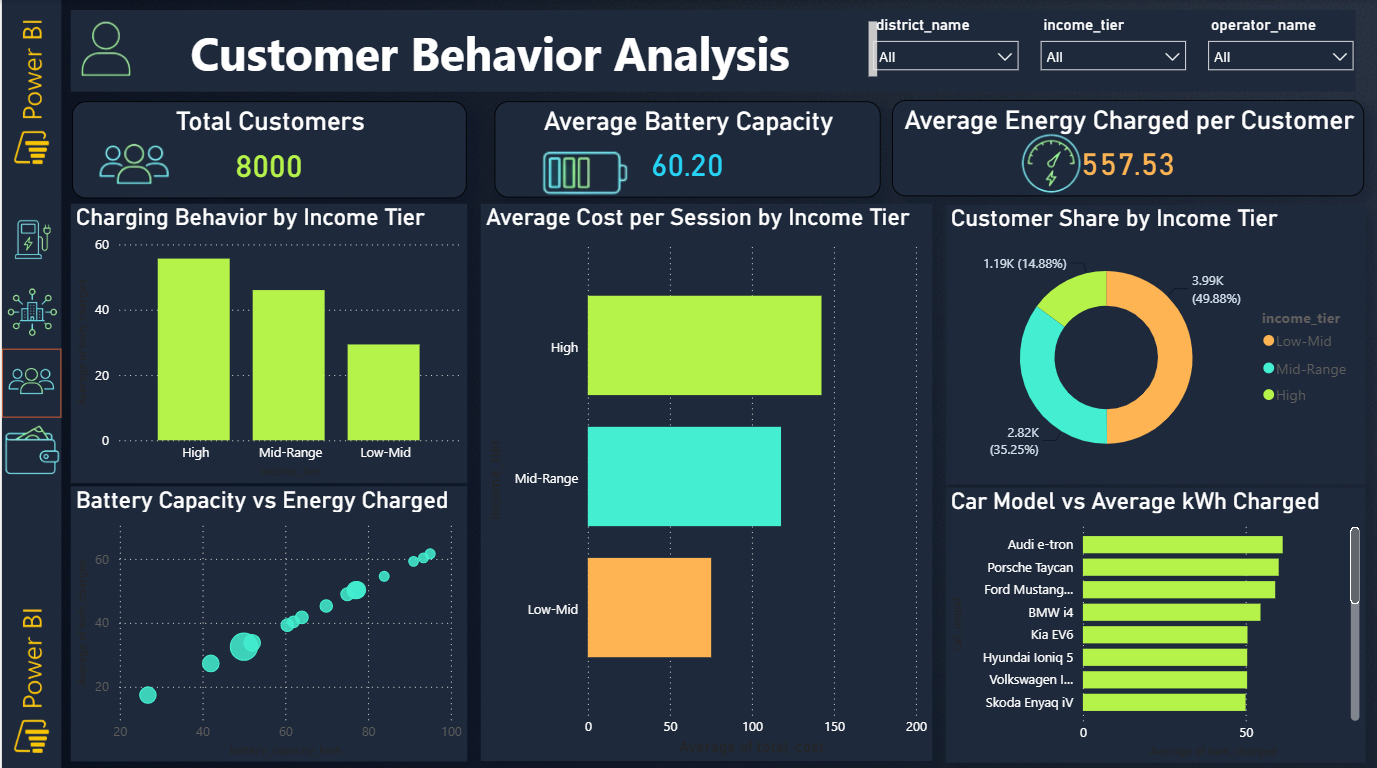

The page's visual inventory and layout, read from the dashboard file:
{"tool":"powerbi","page":{"name":"Customer Behavior Analysis","canvas":[1280,720],"ordinal":2},"visuals":[{"type":"shape","box":[0,0,55.5,720.2],"z":0},{"type":"shape","box":[63.9,9.7,1195.6,76],"z":1000},{"type":"textbox","box":[96.5,15.7,722.7,63.9],"z":2000},{"type":"slicer","fields":{"Values":["districts.district_name"]},"box":[799.9,9.7,155.6,65.1],"z":3000},{"type":"slicer","fields":{"Values":["districts.income_tier"]},"box":[955.5,9.7,155.6,65.1],"z":4000},{"type":"slicer","fields":{"Values":["charging_stations.operator_name"]},"box":[1111.1,9.7,155.6,65.1],"z":5000},{"type":"image","box":[8.4,547.7,55.5,172.5],"z":6000},{"type":"image","box":[8.4,0,55.5,172.5],"z":7000},{"type":"card","title":"Total Customers","fields":{"Values":["charging_sessions.Total Customers"]},"box":[65,93.8,367.5,90],"z":8000},{"type":"card","title":"Average Battery Capacity","fields":{"Values":["charging_sessions.Avg Battery Capacity"]},"box":[458.1,94.2,359.3,89.5],"z":9000},{"type":"card","title":"Average Energy Charged per Customer","fields":{"Values":["charging_sessions.Avg Energy Per Customer"]},"box":[827.9,93,439.5,89.5],"z":10000},{"type":"image","box":[932.5,120,83.8,62.5],"z":11000},{"type":"image","box":[0,191.8,55.5,63.9],"z":12000},{"type":"image","box":[0,255.8,55.5,63.9],"z":13000},{"type":"image","box":[0,324.5,55.5,63.9],"z":14000},{"type":"image","box":[0,387.5,55,63.8],"z":15000},{"type":"clusteredColumnChart","title":"Charging Behavior by Income Tier","fields":{"Category":["customers.income_tier"],"Y":["Avg(charging_sessions.kwh_charged)"]},"box":[63.8,190,368.8,260],"z":16000},{"type":"donutChart","title":"Customer Share by Income Tier","fields":{"Category":["customers.income_tier"],"Y":["Count(customers.customer_id)"]},"box":[877.5,191.2,390,260],"z":17000},{"type":"scatterChart","title":"Battery Capacity vs Energy Charged","fields":{"Size":["CountNonNull(customers.car_model)"],"X":["customers.battery_capacity_kwh"],"Y":["Avg(charging_sessions.kwh_charged)"]},"box":[63.8,452.5,368.8,256.2],"z":18000},{"type":"clusteredBarChart","title":"Car Model vs Average kWh Charged","fields":{"Category":["customers.car_model"],"Y":["Avg(charging_sessions.kwh_charged)"]},"box":[878,453,390,256],"z":19000},{"type":"image","box":[68.8,15,55,63.8],"z":20000},{"type":"image","box":[82.5,108.8,81.2,91.2],"z":21000},{"type":"image","box":[500,120,83.8,80],"z":22000},{"type":"clusteredBarChart","title":"Average Cost per Session by Income Tier","fields":{"Category":["customers.income_tier"],"Y":["Avg(charging_sessions.total_cost)"]},"box":[445,190,420,518.8],"z":23000}]}

Visuals, with their boxes on the page's 1280x720 design canvas (x1, y1, x2, y2). These are canvas units, not pixel positions in the 1377x768 screenshot, which may show the page scaled, cropped or inside an application window:
shape: 0 0 56 720
shape: 64 10 1260 86
textbox: 96 16 819 80
slicer - districts.district_name: 800 10 956 75
slicer - districts.income_tier: 956 10 1111 75
slicer - charging_stations.operator_name: 1111 10 1267 75
image: 8 548 64 720
image: 8 0 64 172
"Total Customers" card: 65 94 432 184
"Average Battery Capacity" card: 458 94 817 184
"Average Energy Charged per Customer" card: 828 93 1267 182
image: 932 120 1016 182
image: 0 192 56 256
image: 0 256 56 320
image: 0 324 56 388
image: 0 388 55 451
"Charging Behavior by Income Tier" clusteredColumnChart: 64 190 433 450
"Customer Share by Income Tier" donutChart: 878 191 1268 451
"Battery Capacity vs Energy Charged" scatterChart: 64 452 433 709
"Car Model vs Average kWh Charged" clusteredBarChart: 878 453 1268 709
image: 69 15 124 79
image: 82 109 164 200
image: 500 120 584 200
"Average Cost per Session by Income Tier" clusteredBarChart: 445 190 865 709
